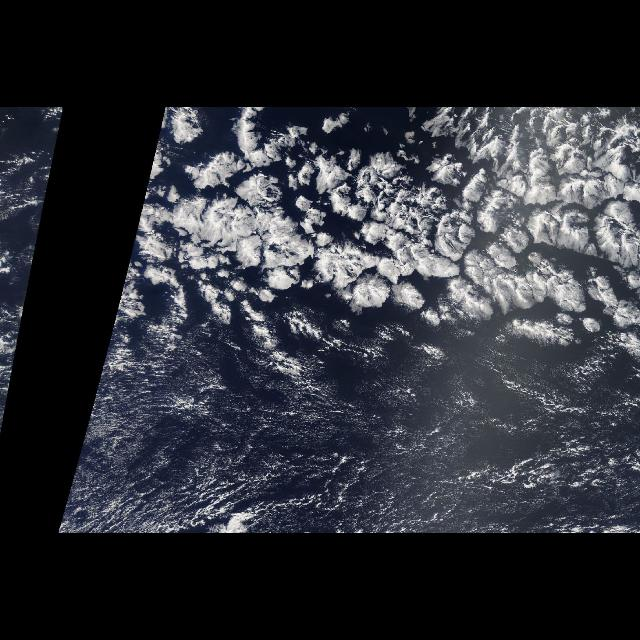Flower: (123, 111, 639, 349)
Sugar: (67, 340, 639, 532)
